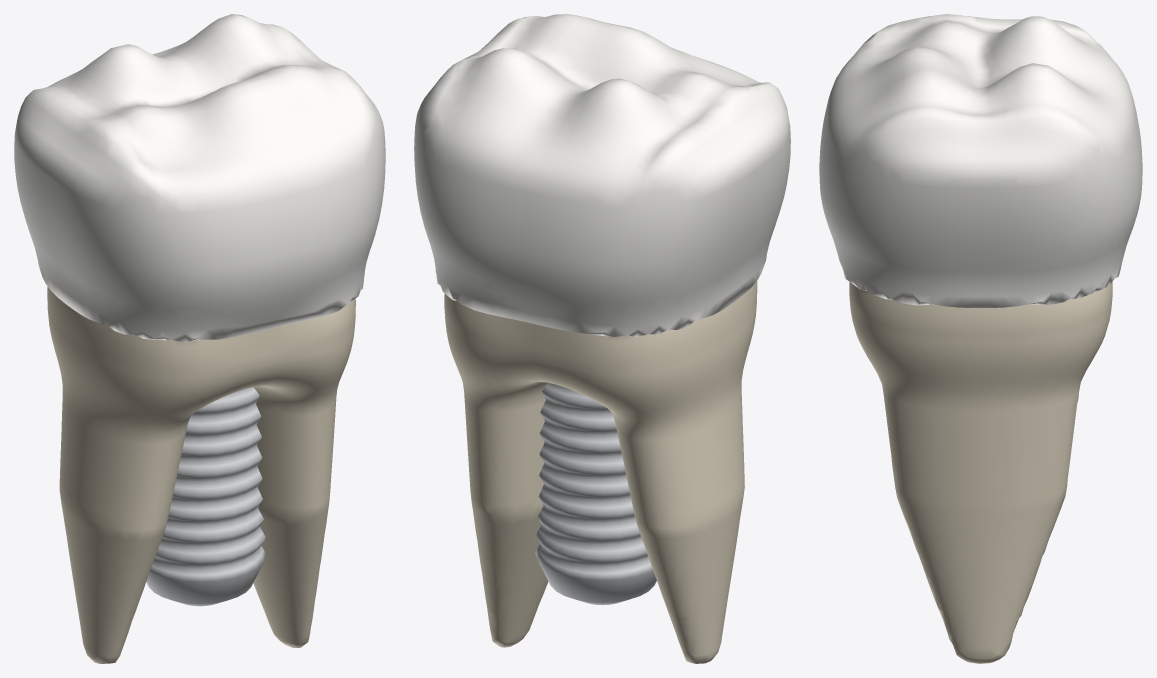
The picture shows the model from 3 angles, left to right: view 1: azimuth 30°, elevation 25°; view 2: azimuth 150°, elevation 25°; view 3: azimuth 270°, elevation 25°; orthographic projection. The views are drawn at different scales.
Visible parts, largest first — view 1: crown, root, implant; view 2: crown, root, implant; view 3: crown, root.
Boxes of the visible parts, x1,y1,x2,y2 form: crown: [14, 14, 385, 342]; root: [47, 286, 355, 663]; implant: [146, 387, 266, 606]; crown: [414, 14, 790, 337]; root: [444, 281, 757, 663]; implant: [535, 383, 656, 605]; crown: [819, 14, 1142, 307]; root: [849, 282, 1112, 663].
Size of the model in its own units: 11.7 by 22.33 by 11.2.
